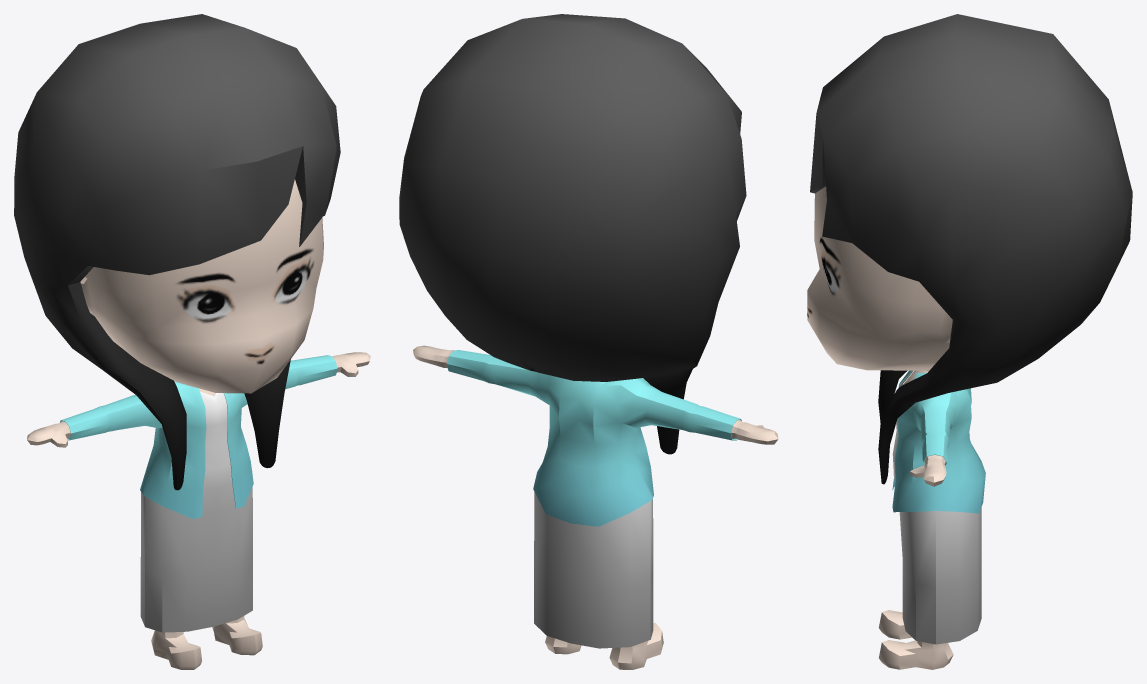
File: Char_CEWEK_001.fbx
3 renders of one model, left to right at view 1: azimuth 30°, elevation 25°; view 2: azimuth 150°, elevation 25°; view 3: azimuth 270°, elevation 25°, orthographic. The views are drawn at different scales.
Parts seen in each view (by area): view 1: Char 1.023, Char 1.025, Char 1.027, Char 1.028; view 2: Char 1.023, Char 1.028, Char 1.027, Char 1.025; view 3: Char 1.023, Char 1.025, Char 1.027, Char 1.028.
Boxes of the visible parts, box(x1,y1,x2,y2) form: Char 1.023: box(14, 14, 340, 490); Char 1.025: box(27, 179, 370, 669); Char 1.027: box(140, 391, 252, 632); Char 1.028: box(60, 355, 337, 519); Char 1.023: box(399, 14, 746, 454); Char 1.028: box(447, 350, 741, 526); Char 1.027: box(534, 492, 653, 648); Char 1.025: box(413, 345, 778, 669); Char 1.023: box(810, 14, 1132, 484); Char 1.025: box(807, 186, 953, 669); Char 1.027: box(892, 370, 981, 644); Char 1.028: box(892, 370, 985, 513).
Bounding box in the file's own units: 833 × 1392 × 670.
Materials: 2 (2 with a texture image).
